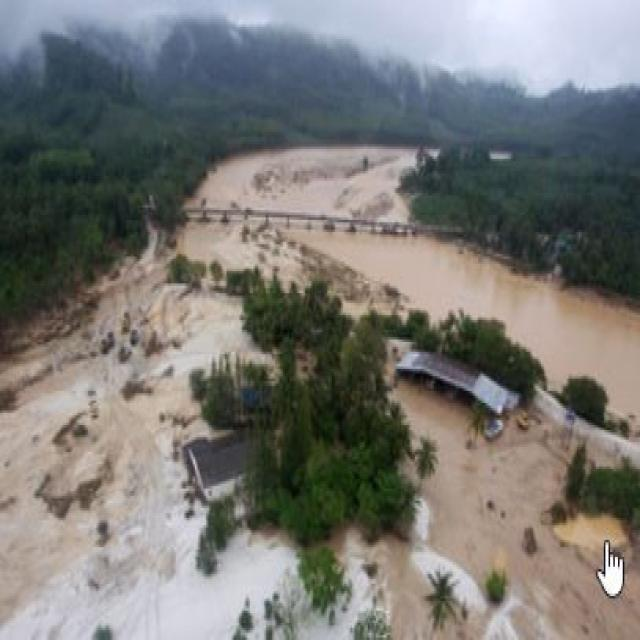flooded_areas: (22, 222, 629, 628)
